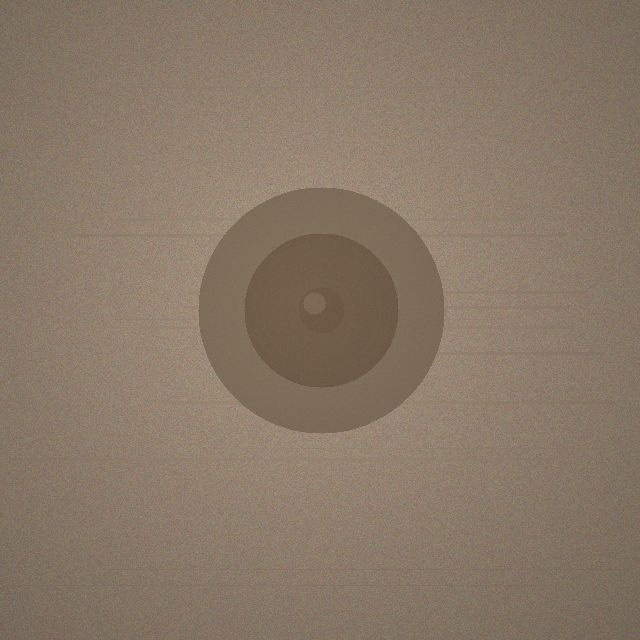good: (198, 187, 444, 433)
